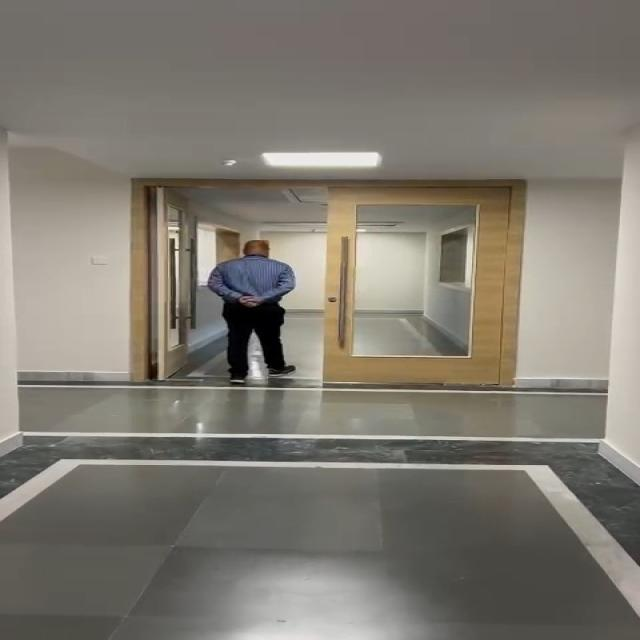door: (310, 174, 522, 386)
floor: (43, 388, 609, 640)
moving_object: (206, 233, 296, 380)
wall: (0, 123, 129, 375), (536, 137, 640, 382)
